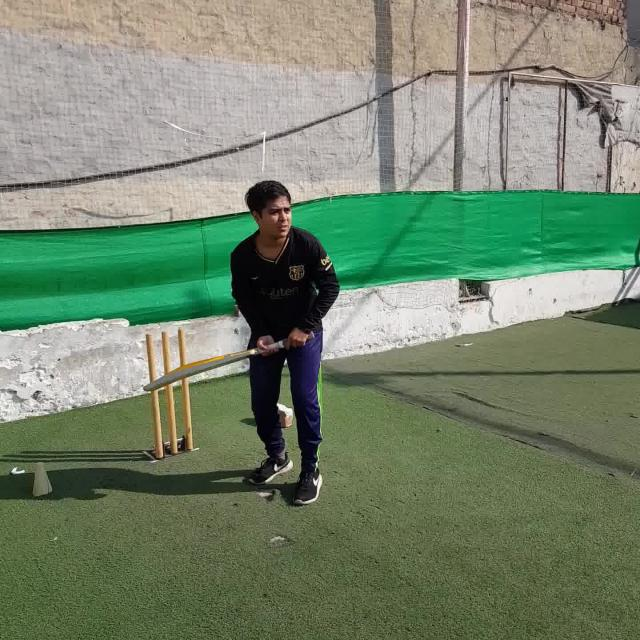bat: (142, 330, 312, 394)
